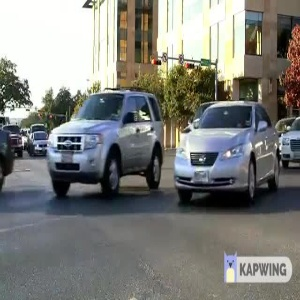car: (172, 99, 282, 207)
suv: (41, 88, 167, 191)
